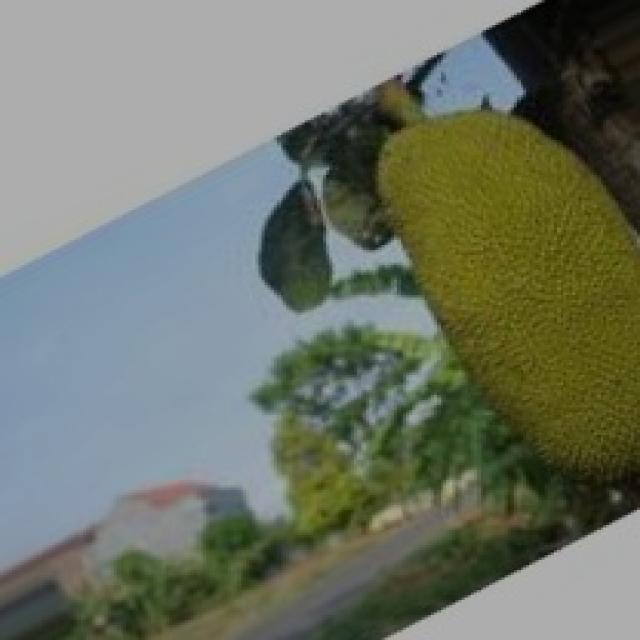Fruit: (332, 80, 640, 480)
